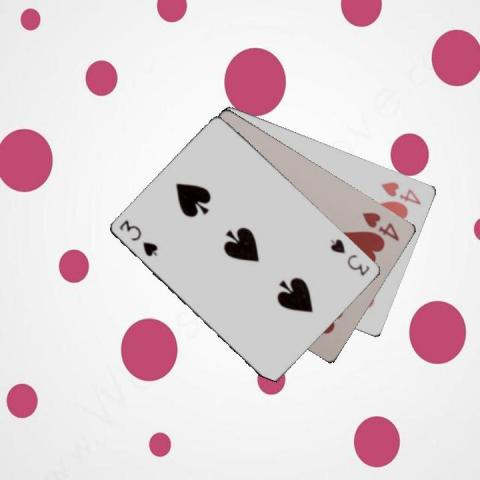3s: (328, 236, 372, 278), (117, 217, 160, 258)
4h: (360, 208, 402, 243), (378, 179, 423, 206)
